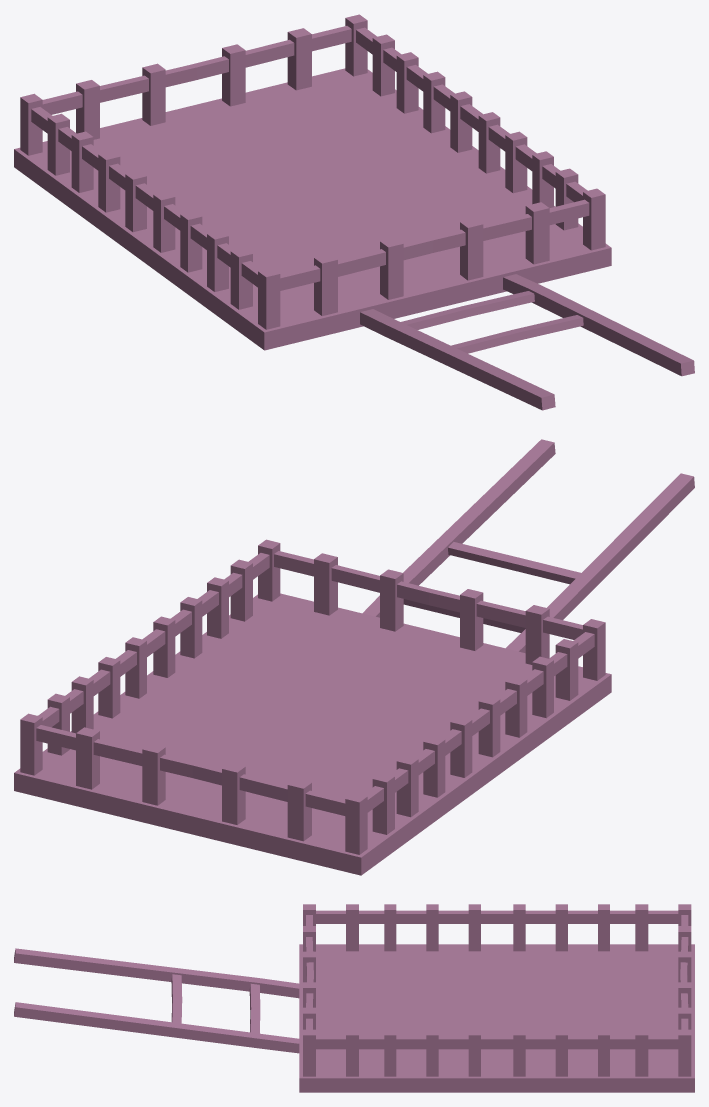
File: Mo_ForestVillageCart01.fbx
3 views of the same model, one above another, from view 1: azimuth 30°, elevation 25°; view 2: azimuth 150°, elevation 25°; view 3: azimuth 270°, elevation 25° (orthographic). The views are drawn at different scales.
Visible parts, largest first — view 1: Cube; view 2: Cube; view 3: Cube.
Boxes of the visible parts, x1=… form: Cube: x1=14, y1=14, x2=694, y2=410; Cube: x1=14, y1=439, x2=694, y2=875; Cube: x1=14, y1=904, x2=694, y2=1092.
Bounding box in the file's own units: 800 × 166 × 1721.
